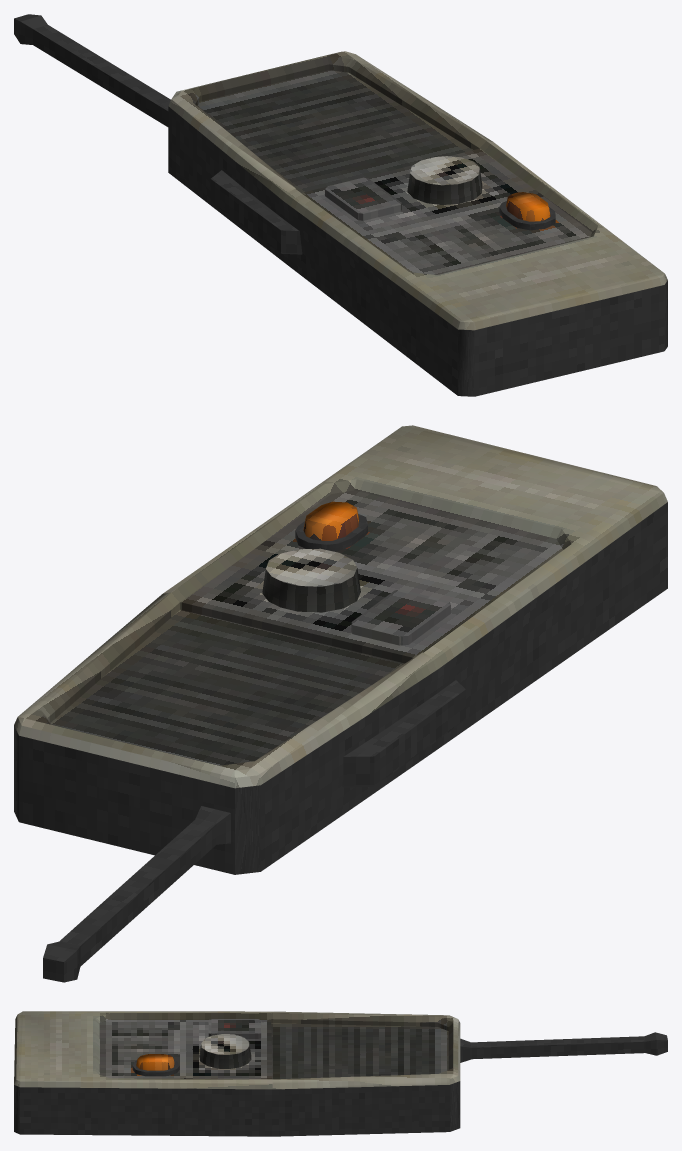
File: walkie_talkie_1.glb
3 renders of one model, top to bottom at view 1: azimuth 30°, elevation 25°; view 2: azimuth 150°, elevation 25°; view 3: azimuth 270°, elevation 25°, orthographic. The views are drawn at different scales.
Visible parts, largest first — view 1: walkie_talkie_1; view 2: walkie_talkie_1; view 3: walkie_talkie_1.
Boxes of the visible parts, x1=… form: walkie_talkie_1: x1=14, y1=14, x2=667, y2=396; walkie_talkie_1: x1=14, y1=425, x2=667, y2=982; walkie_talkie_1: x1=14, y1=1011, x2=667, y2=1136.
Size of the model in its own units: 0.1009 by 0.038 by 0.3569.
2 materials, 2 textured.
